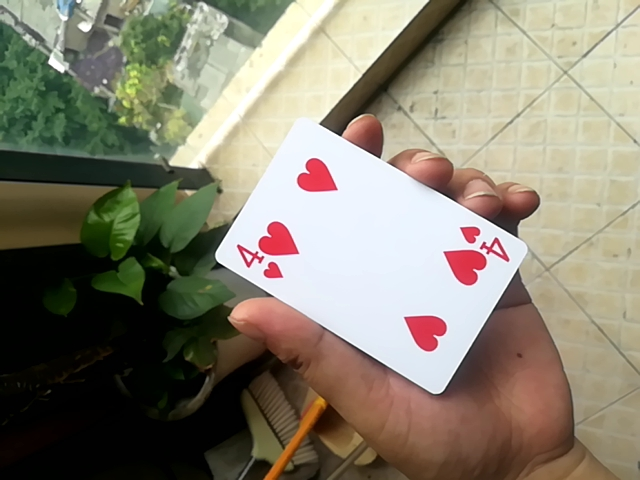hx 4: (217, 117, 535, 398)
